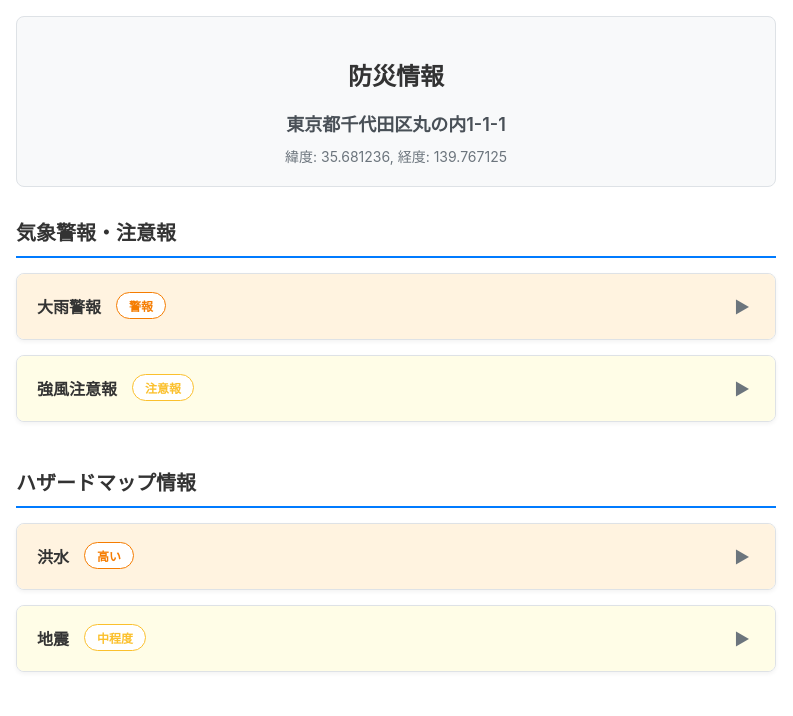
Test case: DisasterInfoDisplayComponent › 日付フォーマット › 日付が正しい形式で表示される
This screenshot has width=793, height=716.
// ハザード情報の更新日時を確認
Step 1. Click the text "洪水" → [396, 556], box [17,524,775,589]
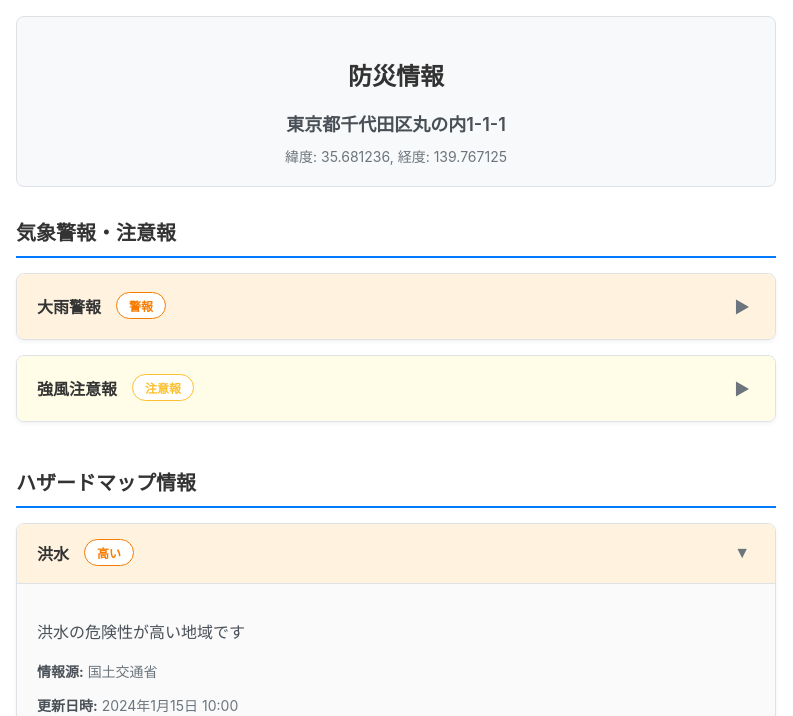
expect the text "更新日時: 2024年1月15日 10:00" is shown: met, box [37,696,238,714]
